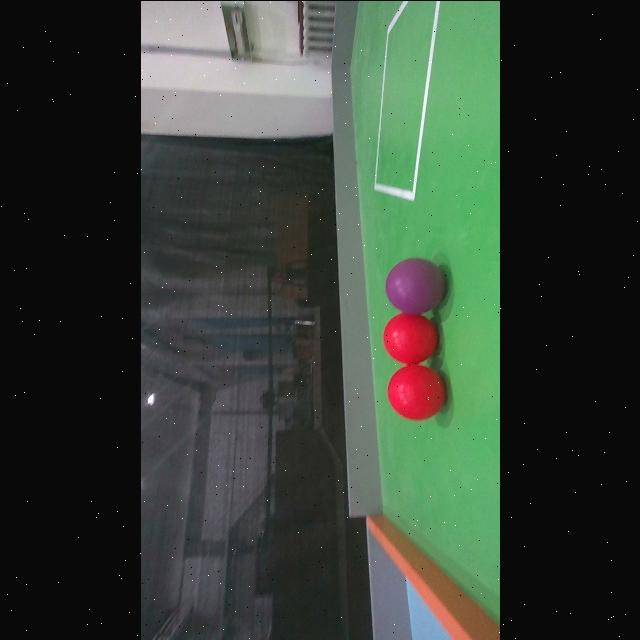P: (385, 258, 445, 312)
R: (387, 364, 445, 420), (383, 312, 439, 362)
